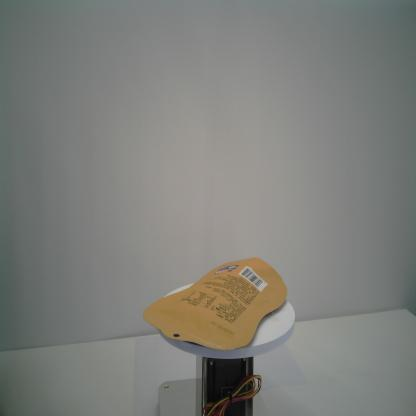Dried Fruit: (142, 256, 288, 353)
